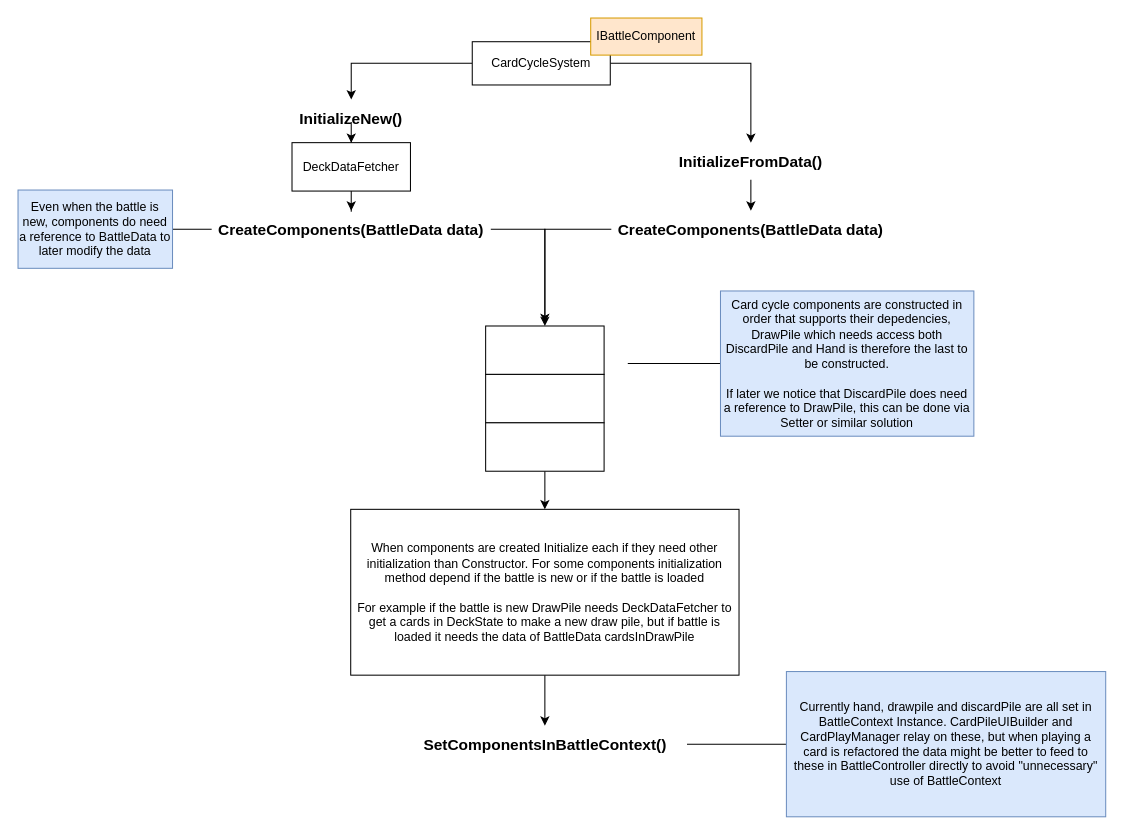
Image size: 1124x835. Some labels were removed from this diagram. Each missing label, with the centre of its shape:
DiscardPile(data): the point at 544,349
DrawPile(data, hand, discardPile): the point at 544,446
Hand(data, discardPile): the point at 544,398
